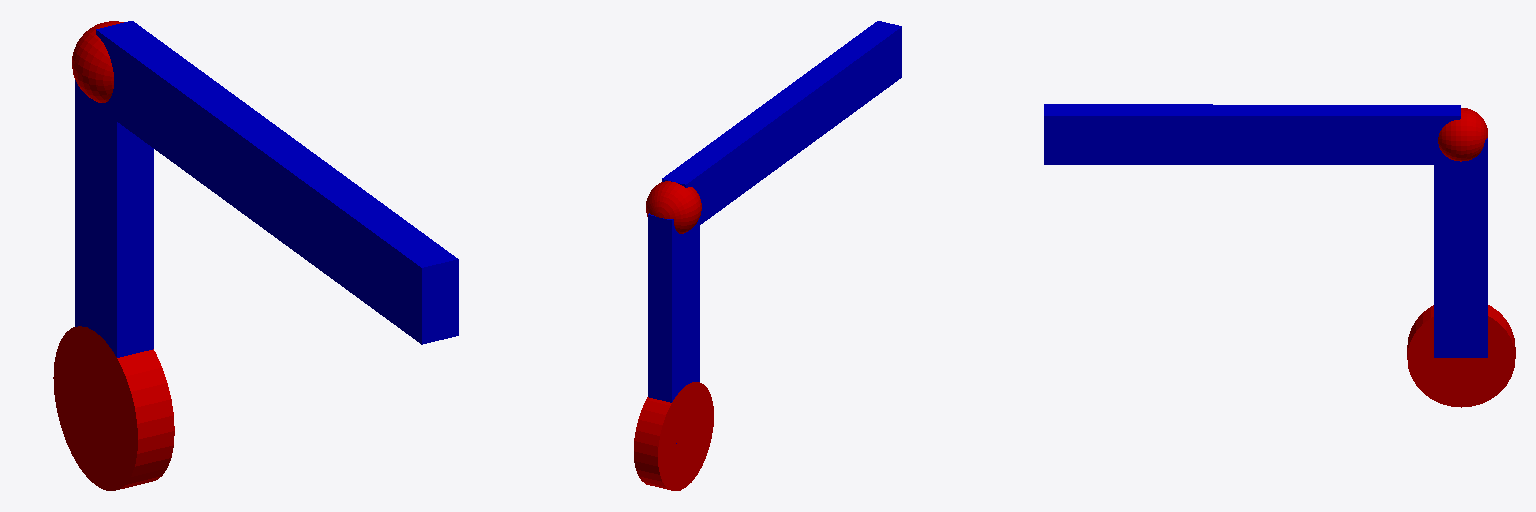
URDF robot description (TwoLinkStruct6796409621):
<?xml version="1.0"?>
<robot  name="TwoLinkStruct6796409621" >
 <material  name="blue" >
  <color  rgba="0 0 0.8 1.0" />
 </material>
 <material  name="red" >
  <color  rgba="0.8 0 0 1.0" />
 </material>
 <link  name="base_link" >
  <visual >
   <origin  rpy="0 1.5707 0"  xyz="0 0 0" />
   <material  name="red" />
   <geometry >
    <cylinder  length="0.05"  radius="0.1" />
   </geometry>
  </visual>
 </link>
 <joint  type="revolute"  name="joint1" >
  <parent  link="base_link" />
  <child  link="link1" />
  <origin  xyz="0 0 0"  rpy="0 0 0" />
  <axis  xyz="1 0 0" />
 </joint>
 <link  name="link1" >
  <inertial >
   <origin  rpy="0 0 0"  xyz="0 0 0.2222423190599581" />
   <mass  value="0.9515003620904503" />
   <inertia  ixy="0.0"  iyy="0.0003964584842043543"  izz="0.015863619681737752"  ixz="0.0"  ixx="0.015863619681737752"  iyz="0.0" />
  </inertial>
  <visual >
   <origin  rpy="0 0 0"  xyz="0 0 0.2222423190599581" />
   <material  name="blue" />
   <geometry >
    <box  size="0.05 0.1 0.4444846381199162" />
   </geometry>
  </visual>
 </link>
 <joint  type="fixed"  name="joint-joint-1" >
  <parent  link="link1" />
  <child  link="joint-link-1" />
  <origin  xyz="0 0 0.4444846381199162"  rpy="1.5707 0 0" />
  <axis  xyz="1 0 0" />
 </joint>
 <link  name="joint-link-1" >
  <inertial >
   <origin  rpy="0 0 0"  xyz="0 0 0" />
   <mass  value="3.612316618619441" />
   <inertia  ixy="0"  iyy="0"  izz="0"  ixz="0"  ixx="0"  iyz="0" />
  </inertial>
  <visual >
   <origin  rpy="0 0 0"  xyz="0 0 0" />
   <material  name="red" />
   <geometry >
    <sphere  radius="0.05" />
   </geometry>
  </visual>
 </link>
 <joint  type="revolute"  name="joint2" >
  <parent  link="link1" />
  <child  link="link2" />
  <origin  xyz="0 0 0.4444846381199162"  rpy="1.5707 0 0" />
  <axis  xyz="1 0 0" />
 </joint>
 <link  name="link2" >
  <inertial >
   <origin  rpy="0 0 0"  xyz="0 0 0.38522893952546544" />
   <mass  value="2.2989165999261543" />
   <inertia  ixy="0.0"  iyy="0.0003964584842043543"  izz="0.04726620417343463"  ixz="0.0"  ixx="0.04726620417343463"  iyz="0.0" />
  </inertial>
  <visual >
   <origin  rpy="0 0 0"  xyz="0 0 0.38522893952546544" />
   <material  name="blue" />
   <geometry >
    <box  size="0.05 0.1 0.7704578790509309" />
   </geometry>
  </visual>
 </link>
 <joint  type="fixed"  name="eef_joint" >
  <parent  link="link2" />
  <child  link="eef" />
  <origin  xyz="0 0 0.7704578790509309"  rpy="0 0 0" />
 </joint>
 <link  name="eef" >
  <inertial >
   <origin  rpy="0 0 0"  xyz="0 0 0" />
   <mass  value="1" />
   <inertia  ixy="0"  iyy="0"  izz="0"  ixz="0"  ixx="0"  iyz="0" />
  </inertial>
 </link>
 <transmission  name="motor1" >
  <type  xmltext="SimpleTransmission" >
   SimpleTransmission
  </type>
  <actuator  name="motor1" >
   <mechanicalreduction  xmltext="1" >
    1
   </mechanicalreduction>
  </actuator>
  <joint  name="joint1" />
 </transmission>
 <transmission  name="motor2" >
  <type  xmltext="SimpleTransmission" >
   SimpleTransmission
  </type>
  <actuator  name="motor2" >
   <mechanicalreduction  xmltext="1" >
    1
   </mechanicalreduction>
  </actuator>
  <joint  name="joint2" />
 </transmission>
</robot>

<!-- {'carti': array([-0.1 ,  0.14,  0.85]), 'cartd': array([-0.1 ,  0.32,  1.29]), 'tau_mu': 0.9263135043826713, 'b0': 0.41382189086694643, 'Km': 2.5103922735570747, 'k_velocity': 30.933925980447945, 'tau_max_m': 5.0, 'omega_max_m': 1000.0, 'gear_ratio': 14.73699765376134, 'Kp': 2.0158373245966636, 'Kd': 50.54147372296128, 'm_m': 3.612316618619441, 'l1': 0.4444846381199162, 'l2': 0.7704578790509309, 'k1': 13632.099745251704, 'k2': 301485695.7297301, 'k3': 242460259.44031733}-->

--- What the picture shows (computed from the rendered views, not written in the file) ---
3 views of the same robot in one strip: view 1: azimuth 30°, elevation 25°; view 2: azimuth 150°, elevation 25°; view 3: azimuth 270°, elevation 25° (orthographic).
Robot: TwoLinkStruct6796409621 — 5 links, 4 joints (2 revolute, 2 fixed); root link base_link; default pose: all joints at 0.
Links seen in each view (by area): view 1: link2, link1, base_link, joint-link-1; view 2: link2, link1, base_link, joint-link-1; view 3: link2, link1, base_link, joint-link-1.
Boxes of the visible links, x1,y1,x2,y2 form: link2: (96, 21, 458, 344); link1: (75, 80, 153, 357); base_link: (53, 326, 174, 490); joint-link-1: (72, 21, 123, 102); link2: (662, 21, 901, 231); link1: (648, 213, 699, 443); base_link: (634, 382, 713, 490); joint-link-1: (646, 181, 701, 233); link2: (1044, 104, 1460, 164); link1: (1434, 138, 1487, 357); base_link: (1407, 305, 1515, 407); joint-link-1: (1438, 108, 1487, 161).
Size in the robot's own frame: 0.1 by 0.8705 by 0.5946 metres.
Geometry: primitives only (box / cylinder / sphere), no mesh files.
